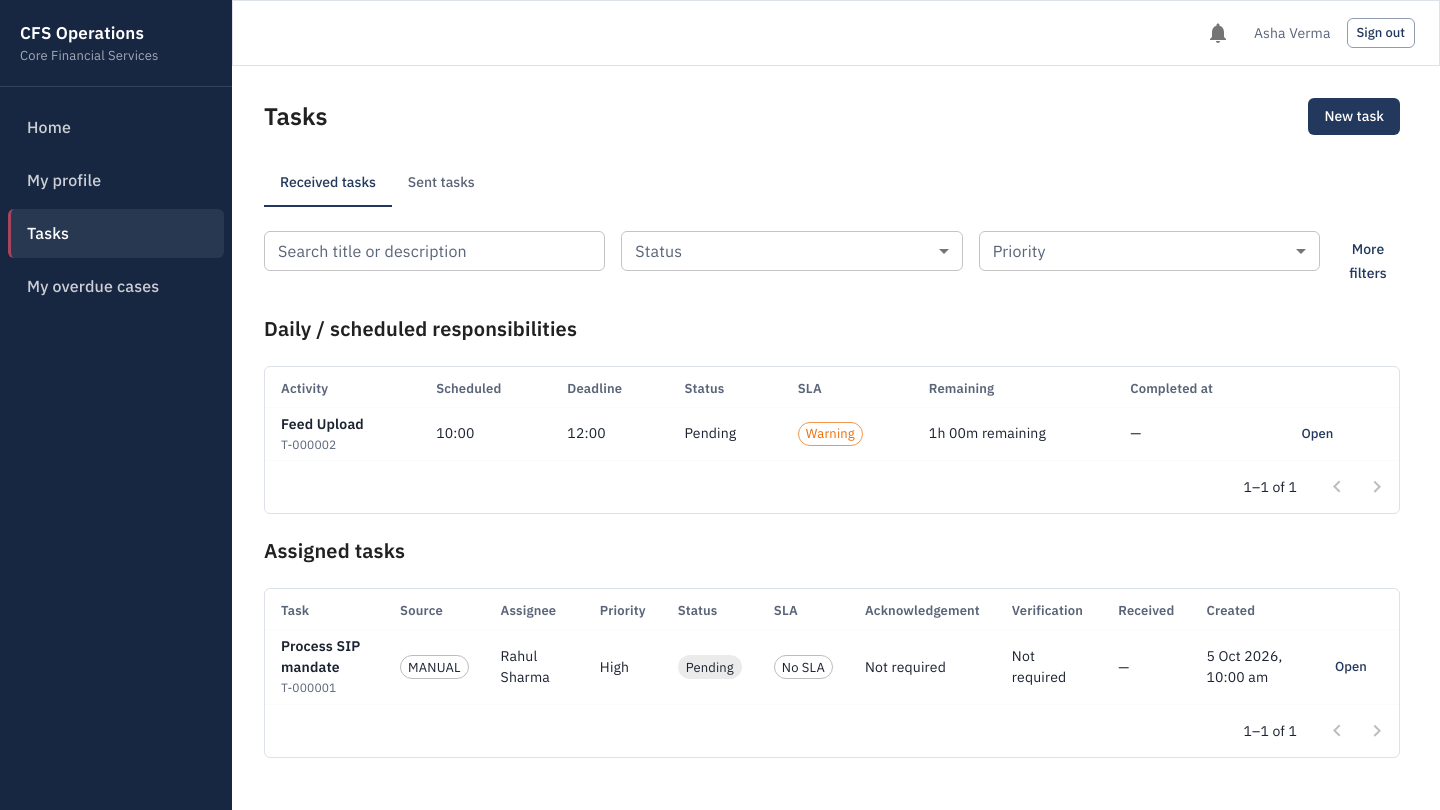
Test case: Tasks page › keeps the values and shows each API error on its field
This screenshot has width=1440, height=810.
Click the button "New task": (1354, 116) [1308,98,1400,134]
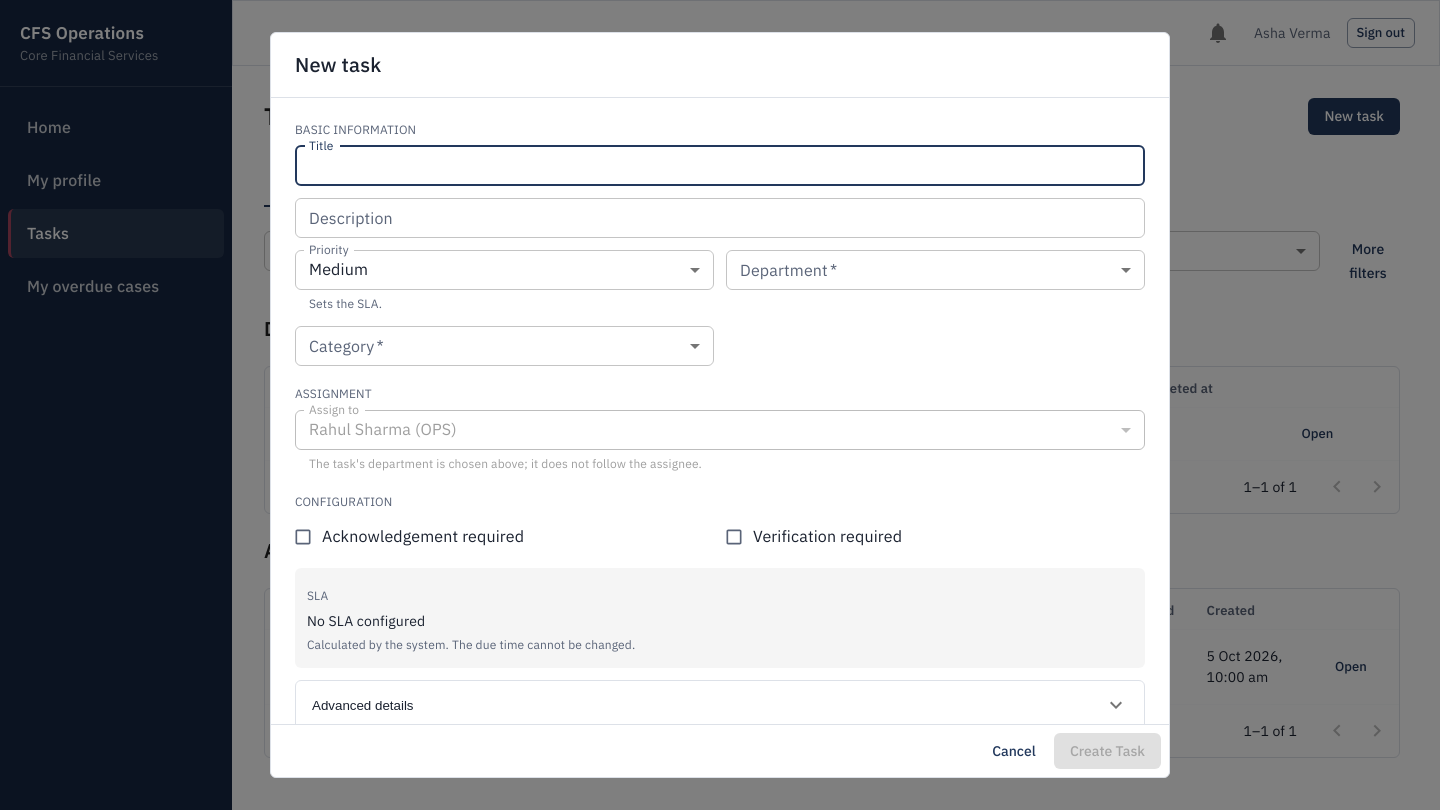
In the field labelled "Title": (720, 166) [295,146,1145,186], type "Keep me"
Click the 1st dropdown named "Department": (936, 270) [726,250,1145,290]
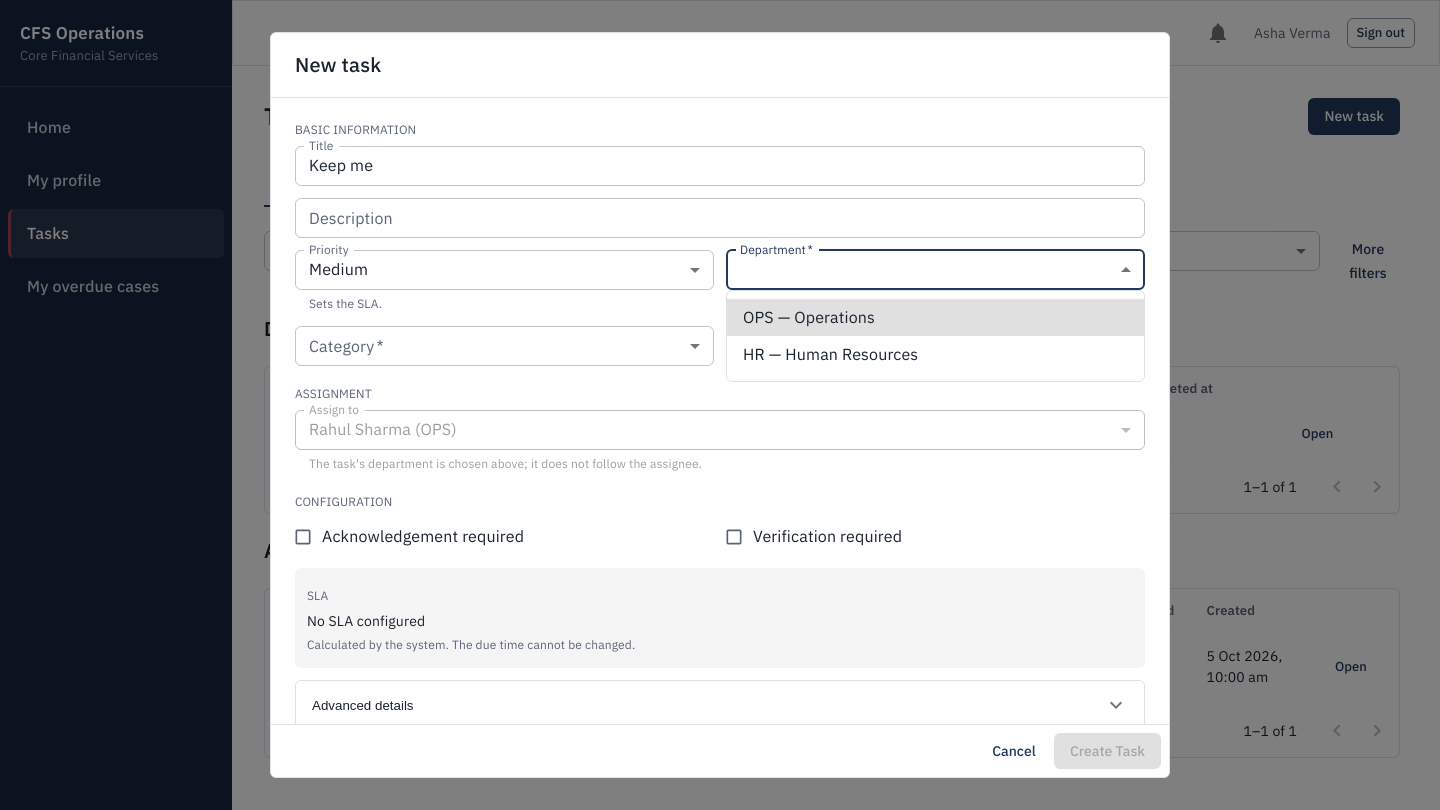
Click the option "HR — Human Resources": (831, 354) [743,344,918,364]
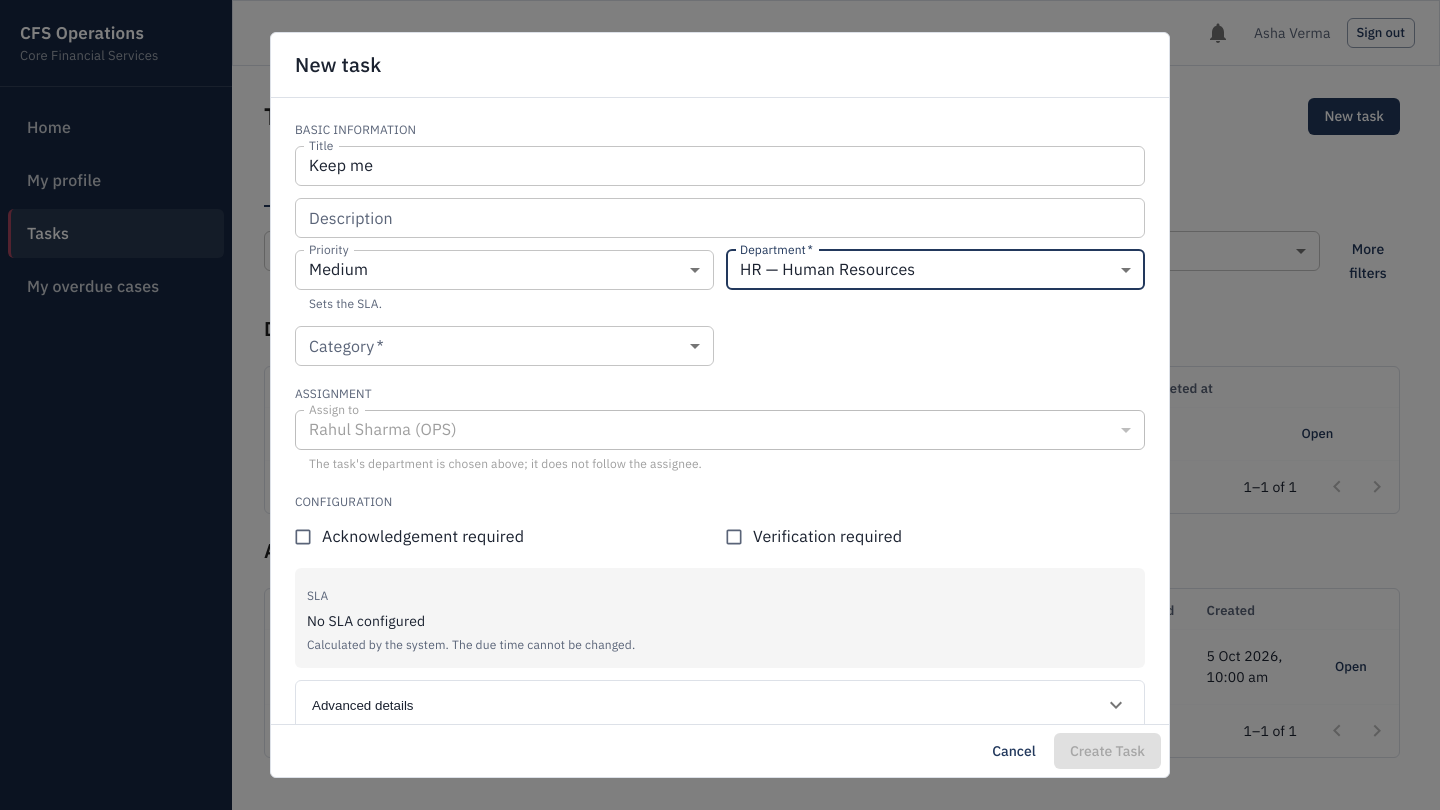
Click the dropdown named "Category": (504, 346) [295,326,714,366]
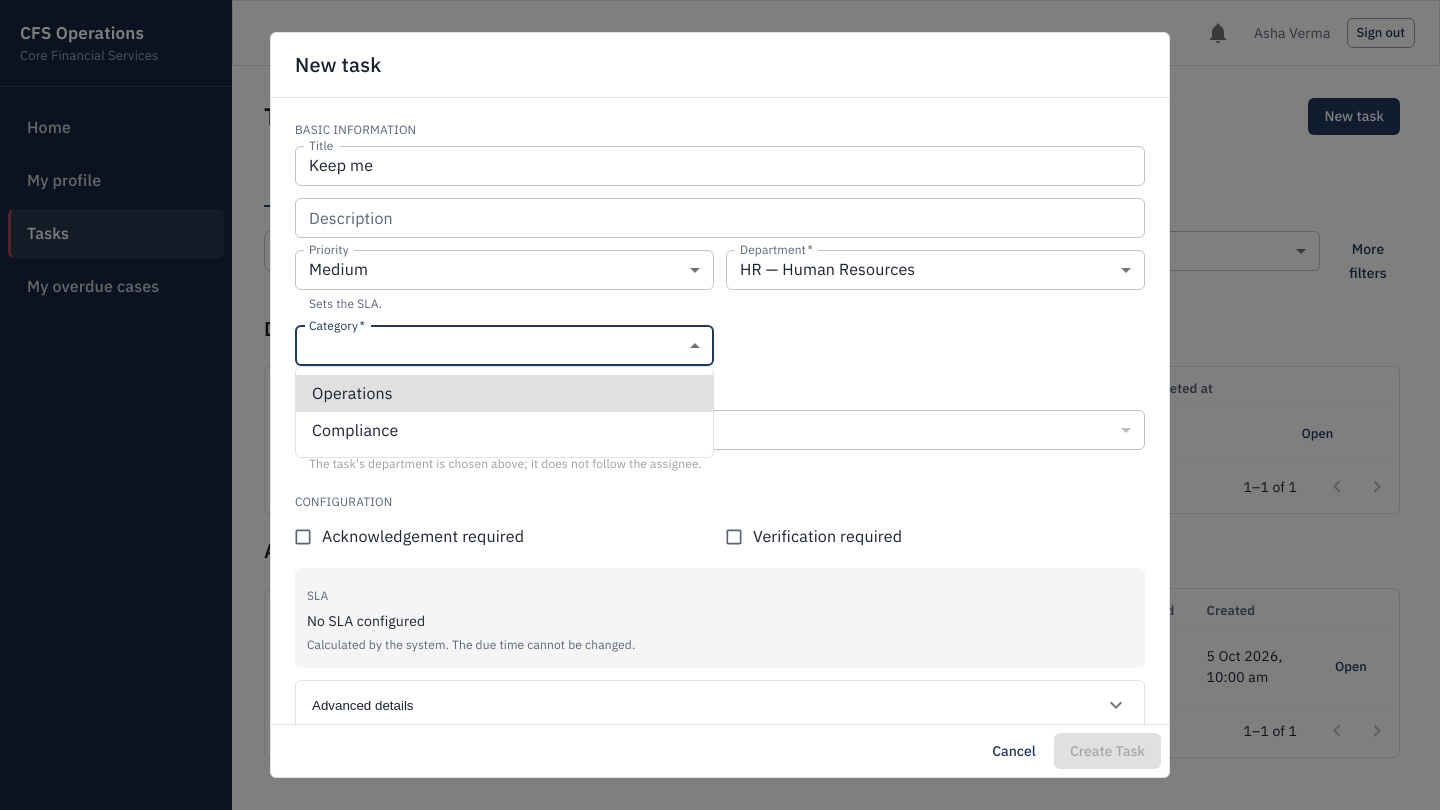
Click the option "Compliance": (355, 430) [312,420,398,440]
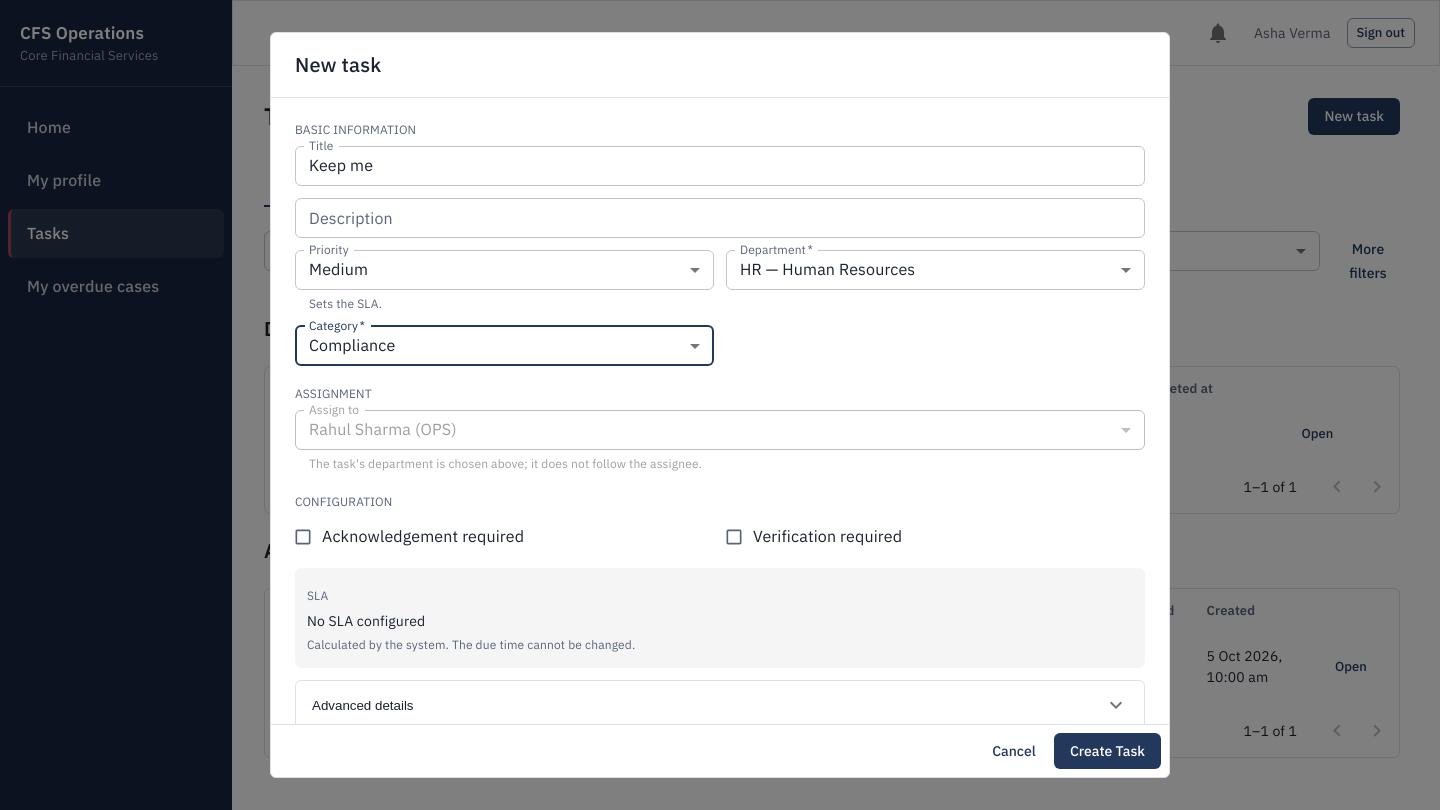
Expected: the button "Create Task" is enabled
Click the button "Create Task": (1107, 751) [1054,732,1161,769]
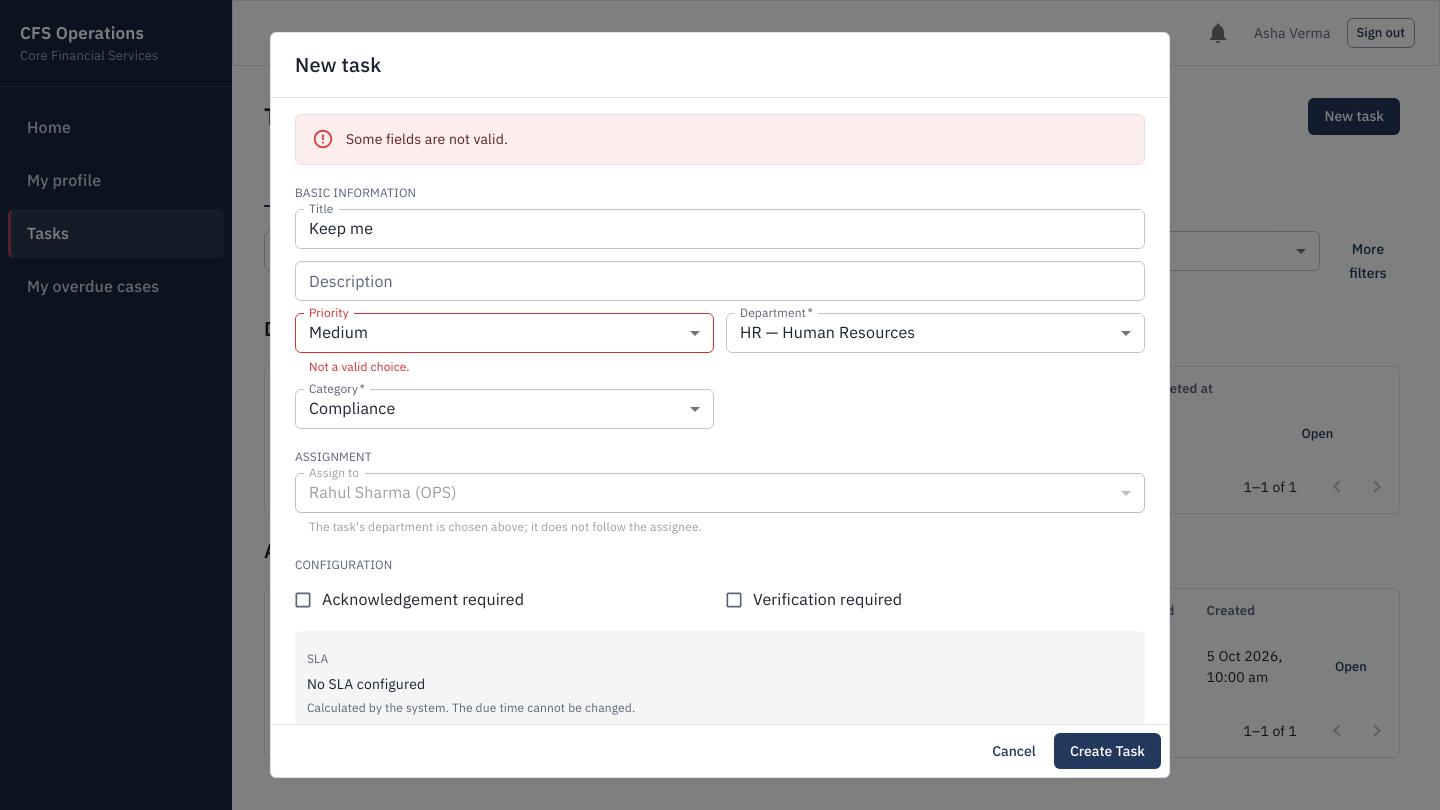
Expected: the text "Not a valid choice." is shown, [309,359,410,374]
